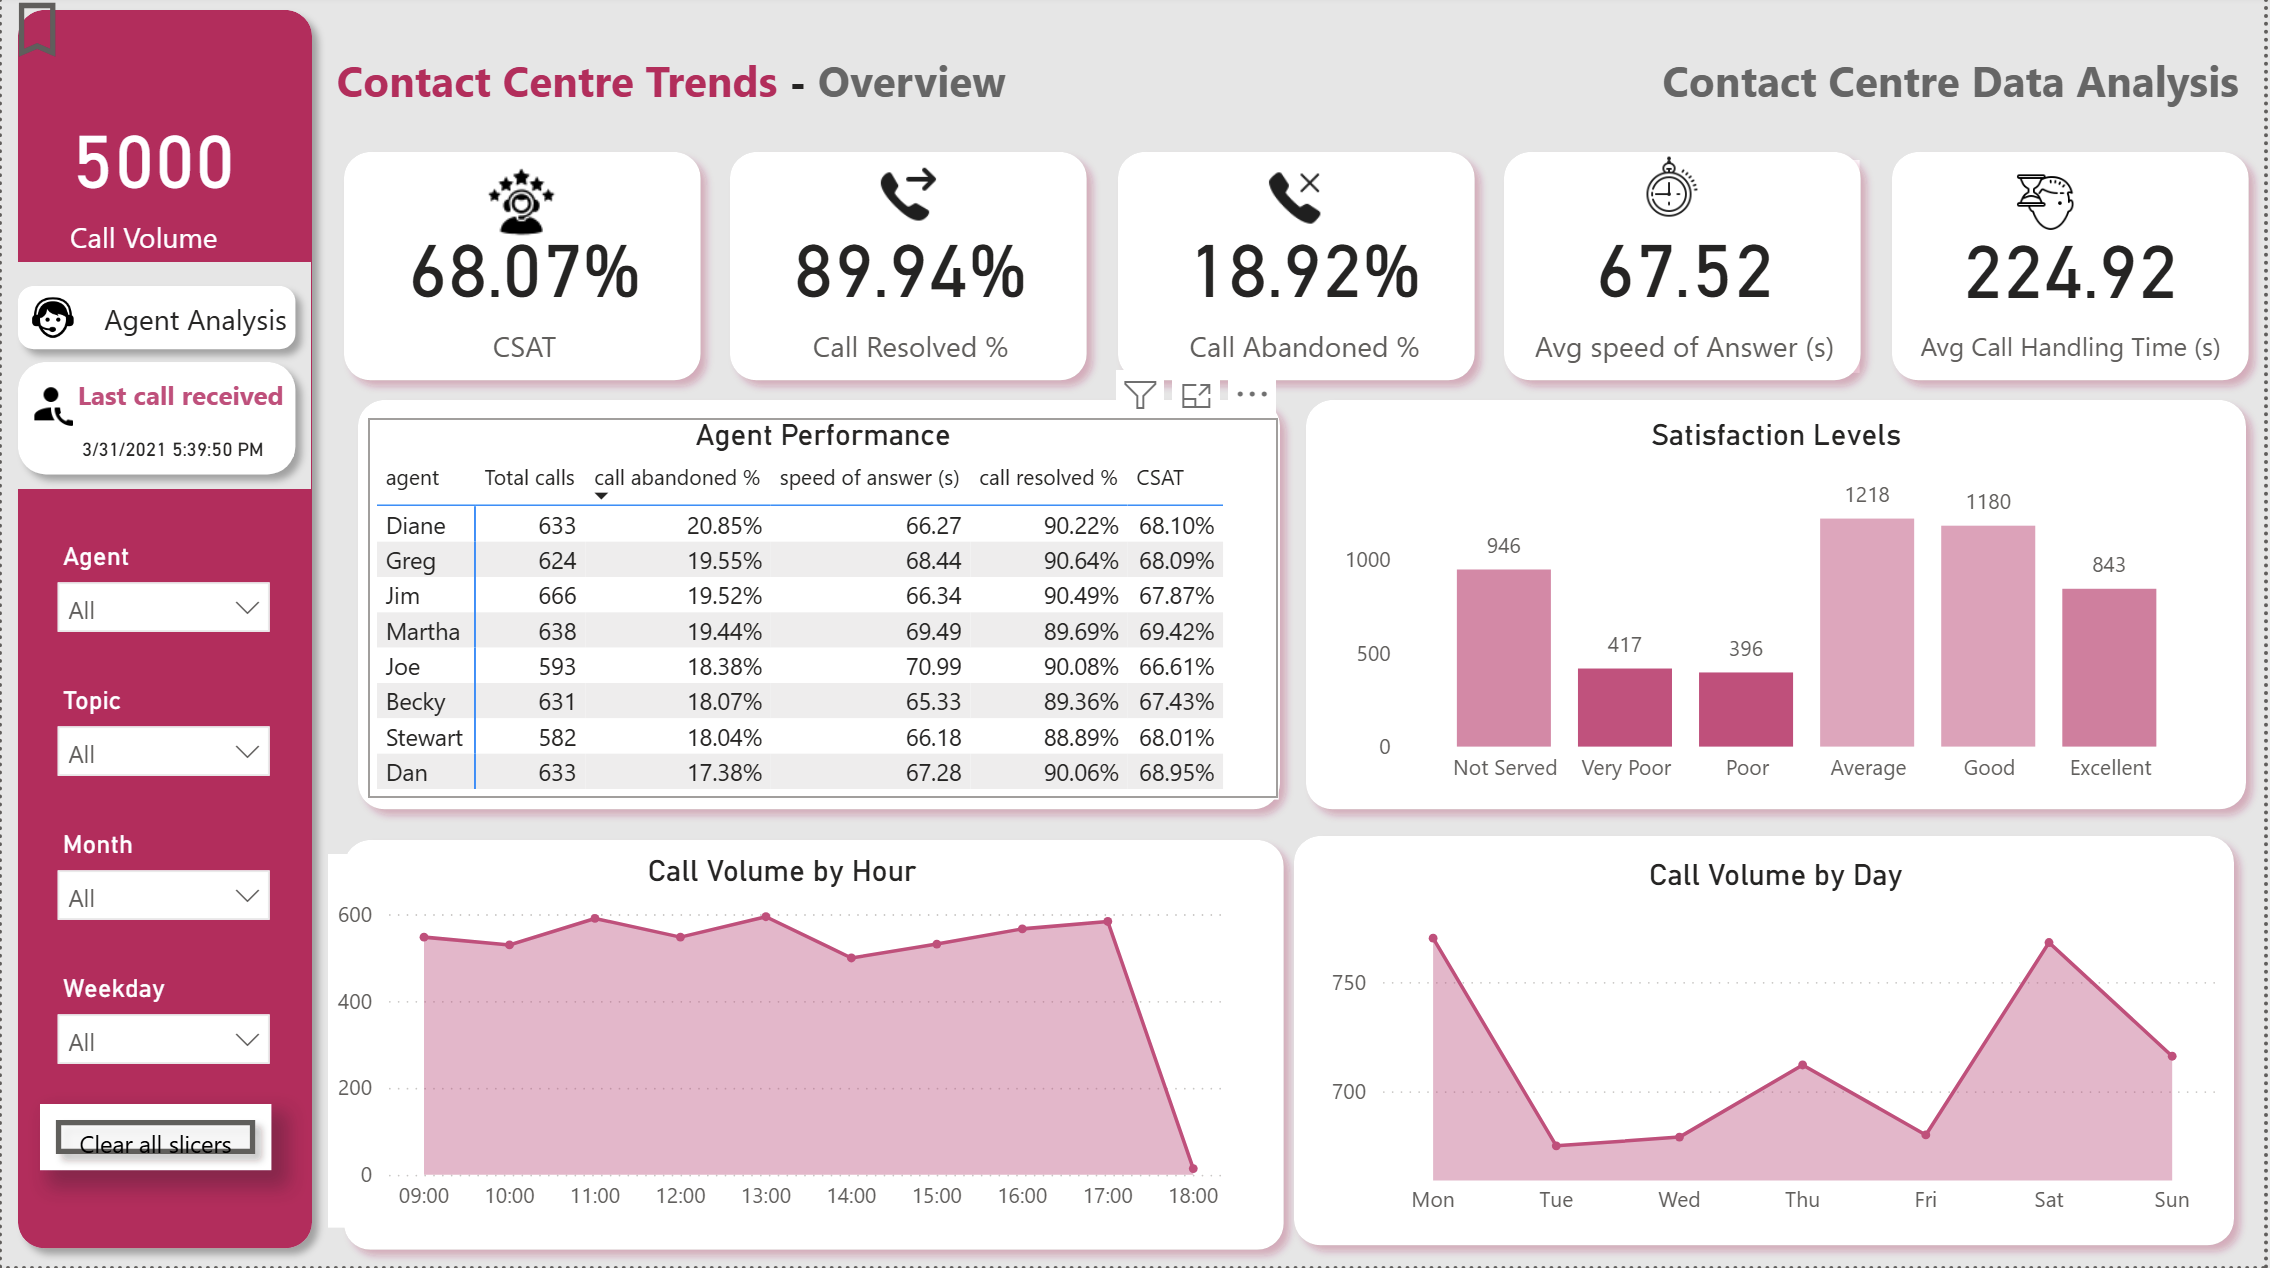

The page's visual inventory and layout, read from the dashboard file:
{"tool":"powerbi","page":{"name":" BG","canvas":[1280,720],"ordinal":1},"visuals":[{"type":"group","id":"g1","title":"BG","box":[0,0,1280,720],"z":0},{"type":"shape","box":[0,0,184.5,719],"z":0,"group":"g1"},{"type":"shape","box":[184,79.9,220,147.2],"z":0,"group":"g2"},{"type":"cardVisual","fields":{"Data":["measures_table.CSAT"]},"box":[186.8,118.1,218.2,106.9],"z":0,"group":"g4"},{"type":"slicer","fields":{"Values":["01 Call-Center-Dataset.agent"]},"box":[21.4,304.9,140,80],"z":0,"group":"g3"},{"type":"shape","box":[403,79.9,220,147.2],"z":1000,"group":"g2"},{"type":"cardVisual","fields":{"Data":["measures_table.call resolved %"]},"box":[405,118.1,218.2,106.9],"z":1000,"group":"g4"},{"type":"shape","title":"Agent Performance","box":[192.4,220.5,540,249.8],"z":1000,"group":"g1"},{"type":"slicer","fields":{"Values":["01 Call-Center-Dataset.topic"]},"box":[21.4,386.3,140,80],"z":1000,"group":"g3"},{"type":"cardVisual","fields":{"Data":["measures_table.Total calls"]},"box":[21.4,66.4,142.9,85.5],"z":2000,"group":"g1"},{"type":"cardVisual","fields":{"Data":["measures_table.Avg speed of Answer"]},"box":[856.7,93.4,194.6,120.4],"z":2000,"group":"g2"},{"type":"cardVisual","fields":{"Data":["measures_table.call abandoned %"]},"box":[627.8,118.1,218.2,106.9],"z":2000,"group":"g4"},{"type":"pivotTable","title":"Agent Performance","fields":{"Rows":["01 Call-Center-Dataset.agent"],"Values":["measures_table.Total calls","measures_table.call abandoned %","Avg(01 Call-Center-Dataset.speed of answer in seconds)","measures_table.call resolved %","measures_table.CSAT"]},"box":[207,239.6,515.2,216],"z":2000},{"type":"slicer","fields":{"Values":["01 Call-Center-Dataset.day"]},"box":[21.4,549,140,80],"z":2000,"group":"g3"},{"type":"textbox","box":[184.5,26.9,429.8,52.6],"z":3000,"group":"g1"},{"type":"shape","box":[622,79.9,220,147.2],"z":3000,"group":"g2"},{"type":"cardVisual","fields":{"Data":["measures_table.Avg speed of Answer"]},"box":[843.8,118.1,218.2,106.9],"z":3000,"group":"g4"},{"type":"slicer","fields":{"Values":["01 Call-Center-Dataset.month"]},"box":[21.4,467.7,140,80],"z":3000,"group":"g3"},{"type":"lineChart","title":"Call Volume by Hour","fields":{"Category":["01 Call-Center-Dataset.hour"],"Y":["measures_table.Total calls"]},"box":[184.5,487.1,514.1,211.5],"z":3000},{"type":"textbox","box":[894.4,27,376.9,52.9],"z":4000,"group":"g1"},{"type":"shape","box":[841,79.9,220,147.2],"z":4000,"group":"g2"},{"type":"cardVisual","fields":{"Data":["measures_table.avg call handling time"]},"box":[1062,118.1,218.2,106.9],"z":4000,"group":"g4"},{"type":"lineChart","title":"Call Volume by Day","fields":{"Category":["01 Call-Center-Dataset.day"],"Y":["measures_table.Total calls"]},"box":[747,489.4,514.1,211.5],"z":4000},{"type":"group","id":"g2","title":"Group 1","box":[184,79.9,1096,147.2],"z":5000,"group":"g1"},{"type":"shape","box":[1060,79.9,220,147.2],"z":5000,"group":"g2"},{"type":"clusteredColumnChart","title":"Satisfaction Levels","fields":{"Y":["measures_table.Total calls"],"Category":["01 Call-Center-Dataset.satisfaction levels"]},"box":[754.9,239.6,498.4,216],"z":5000},{"type":"shape","box":[729,220.5,550.1,249.8],"z":6000,"group":"g1"},{"type":"cardVisual","fields":{"Data":["measures_table.last call"]},"box":[28.1,239.6,142.9,27],"z":6000},{"type":"group","id":"g3","title":"Slicers","box":[21.4,304.9,139.5,324],"z":7000},{"type":"shape","box":[184,470,550,250],"z":7000,"group":"g1"},{"type":"actionButton","box":[0,0,100,40],"z":8000,"group":"g1"},{"type":"group","id":"g4","title":"kpi","box":[186.8,118.1,1093.5,106.9],"z":8000},{"type":"shape","box":[722.2,468,550.1,249.8],"z":9000,"group":"g1"},{"type":"actionButton","box":[21,628.3,130.8,37.4],"z":9000},{"type":"shape","box":[7.9,152.3,167,128.7],"z":10000,"group":"g1"},{"type":"shape","box":[0,199.3,175.1,81.7],"z":11000,"group":"g1"},{"type":"shape","box":[0,156.2,175.1,53.9],"z":12000,"group":"g1"},{"type":"textbox","box":[28.1,211.5,136.1,30.4],"z":13000,"group":"g1"},{"type":"image","box":[10.1,213.8,34.9,36],"z":14000,"group":"g1"},{"type":"textbox","box":[9.8,167,156.2,32.4],"z":15000,"group":"g1"},{"type":"image","title":"Agent","box":[8.8,166,39.3,33.4],"z":16000,"group":"g1"},{"type":"image","box":[262.5,90.5,62.5,53.4],"z":17000,"group":"g1"},{"type":"image","box":[482.5,89.6,58.8,48.9],"z":18000,"group":"g1"},{"type":"image","box":[708.3,94.1,46.2,43.2],"z":19000,"group":"g1"},{"type":"image","box":[922.5,85.5,43.9,46.1],"z":20000,"group":"g1"},{"type":"image","box":[1135.2,95,42.5,46.2],"z":21000,"group":"g1"}]}

Visuals, with their boxes in screenshot pixels (x1, y1, x2, y2), scaled from the page's 1280x720 canvas onto the 2270x1268 screenshot:
"BG" group: x1=0, y1=0, x2=2269, y2=1267
shape: x1=0, y1=0, x2=327, y2=1266
shape: x1=326, y1=141, x2=716, y2=400
cardVisual - measures_table.CSAT: x1=331, y1=208, x2=718, y2=396
slicer - 01 Call-Center-Dataset.agent: x1=38, y1=537, x2=286, y2=678
shape: x1=715, y1=141, x2=1105, y2=400
cardVisual - measures_table.call resolved %: x1=718, y1=208, x2=1105, y2=396
"Agent Performance" shape: x1=341, y1=388, x2=1299, y2=828
slicer - 01 Call-Center-Dataset.topic: x1=38, y1=680, x2=286, y2=821
cardVisual - measures_table.Total calls: x1=38, y1=117, x2=291, y2=268
cardVisual - measures_table.Avg speed of Answer: x1=1519, y1=164, x2=1864, y2=377
cardVisual - measures_table.call abandoned %: x1=1113, y1=208, x2=1500, y2=396
"Agent Performance" pivotTable: x1=367, y1=422, x2=1281, y2=802
slicer - 01 Call-Center-Dataset.day: x1=38, y1=967, x2=286, y2=1108
textbox: x1=327, y1=47, x2=1089, y2=140
shape: x1=1103, y1=141, x2=1493, y2=400
cardVisual - measures_table.Avg speed of Answer: x1=1496, y1=208, x2=1883, y2=396
slicer - 01 Call-Center-Dataset.month: x1=38, y1=824, x2=286, y2=965
"Call Volume by Hour" lineChart: x1=327, y1=858, x2=1239, y2=1230
textbox: x1=1586, y1=48, x2=2255, y2=141
shape: x1=1491, y1=141, x2=1882, y2=400
cardVisual - measures_table.avg call handling time: x1=1883, y1=208, x2=2269, y2=396
"Call Volume by Day" lineChart: x1=1325, y1=862, x2=2236, y2=1234
"Group 1" group: x1=326, y1=141, x2=2269, y2=400
shape: x1=1880, y1=141, x2=2269, y2=400
"Satisfaction Levels" clusteredColumnChart: x1=1339, y1=422, x2=2223, y2=802
shape: x1=1293, y1=388, x2=2268, y2=828
cardVisual - measures_table.last call: x1=50, y1=422, x2=303, y2=470
"Slicers" group: x1=38, y1=537, x2=285, y2=1108
shape: x1=326, y1=828, x2=1302, y2=1267
actionButton: x1=0, y1=0, x2=177, y2=70
"kpi" group: x1=331, y1=208, x2=2269, y2=396
shape: x1=1281, y1=824, x2=2256, y2=1264
actionButton: x1=37, y1=1107, x2=269, y2=1172
shape: x1=14, y1=268, x2=310, y2=495
shape: x1=0, y1=351, x2=311, y2=495
shape: x1=0, y1=275, x2=311, y2=370
textbox: x1=50, y1=372, x2=291, y2=426
image: x1=18, y1=377, x2=80, y2=440
textbox: x1=17, y1=294, x2=294, y2=351
"Agent" image: x1=16, y1=292, x2=85, y2=351
image: x1=466, y1=159, x2=576, y2=253
image: x1=856, y1=158, x2=960, y2=244
image: x1=1256, y1=166, x2=1338, y2=242
image: x1=1636, y1=151, x2=1714, y2=232
image: x1=2013, y1=167, x2=2089, y2=249
